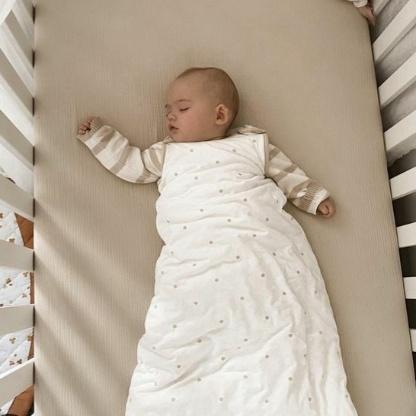baby: (74, 65, 336, 225)
